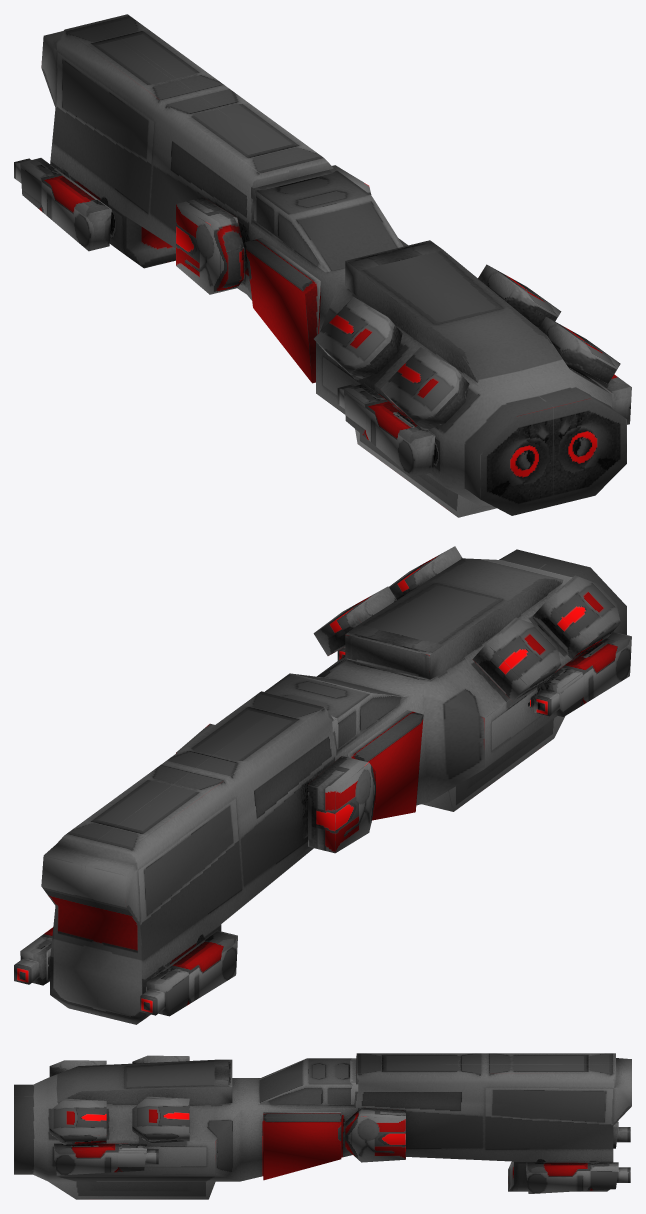
Rendered from RSFlagship.fbx.
3 views of the same model, one above another, from view 1: azimuth 30°, elevation 25°; view 2: azimuth 150°, elevation 25°; view 3: azimuth 270°, elevation 25° (orthographic). The views are drawn at different scales.
Visible parts, largest first — view 1: RSFlagshipMod; view 2: RSFlagshipMod; view 3: RSFlagshipMod.
Boxes of the visible parts, box(x1,y1,x2,y2) form: RSFlagshipMod: box(14, 14, 631, 517); RSFlagshipMod: box(14, 546, 631, 1024); RSFlagshipMod: box(14, 1053, 631, 1199).
Size of the model in its own units: 10.35 by 8.31 by 38.52.
1 material, 1 textured.
